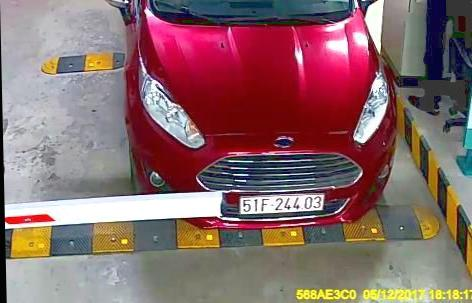License_Plate: (234, 191, 330, 216)
